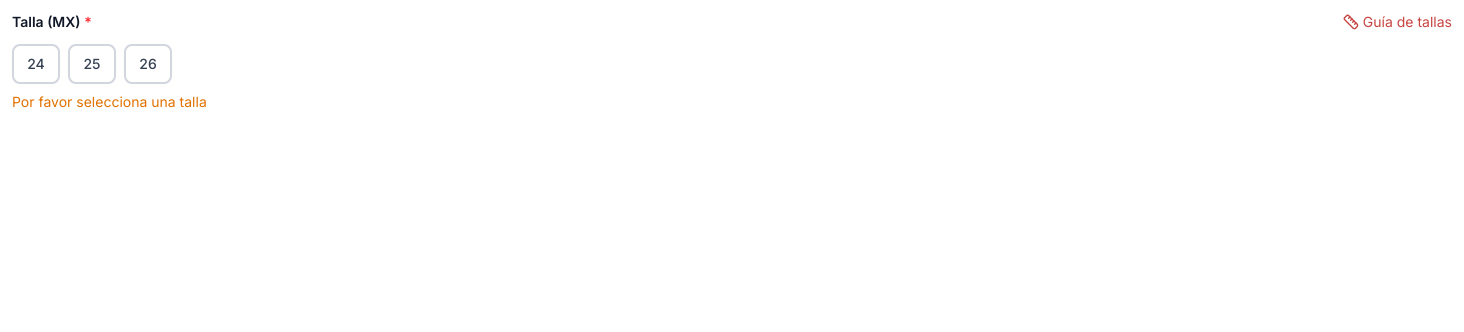
SizeSelector Component › Size Guide › should show shoe size guide content
Click the button "Guía de tallas" at (1397, 22), box x1=1343 y1=12 x2=1452 y2=32
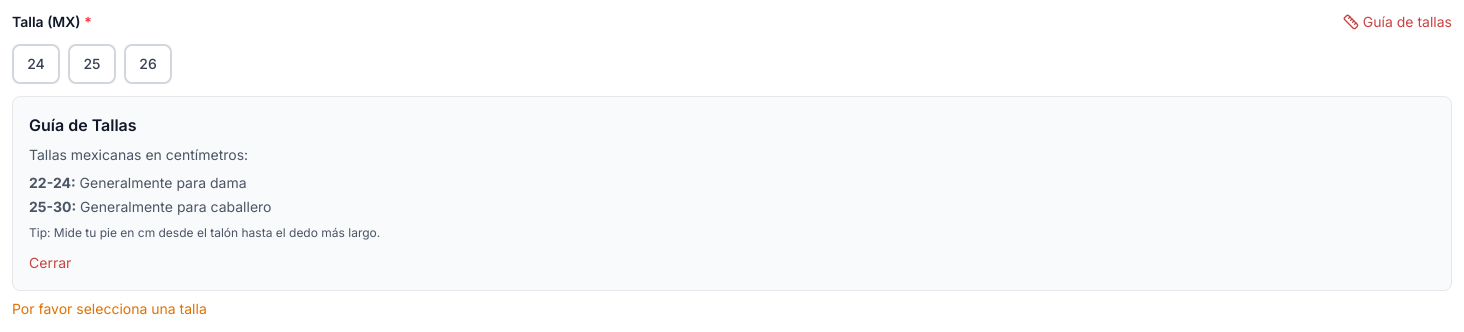
Expected: the text "Tallas mexicanas en centímetros:" is shown, x1=29 y1=146 x2=248 y2=163
Expected: the text "22-24:" is shown, x1=29 y1=174 x2=76 y2=191
